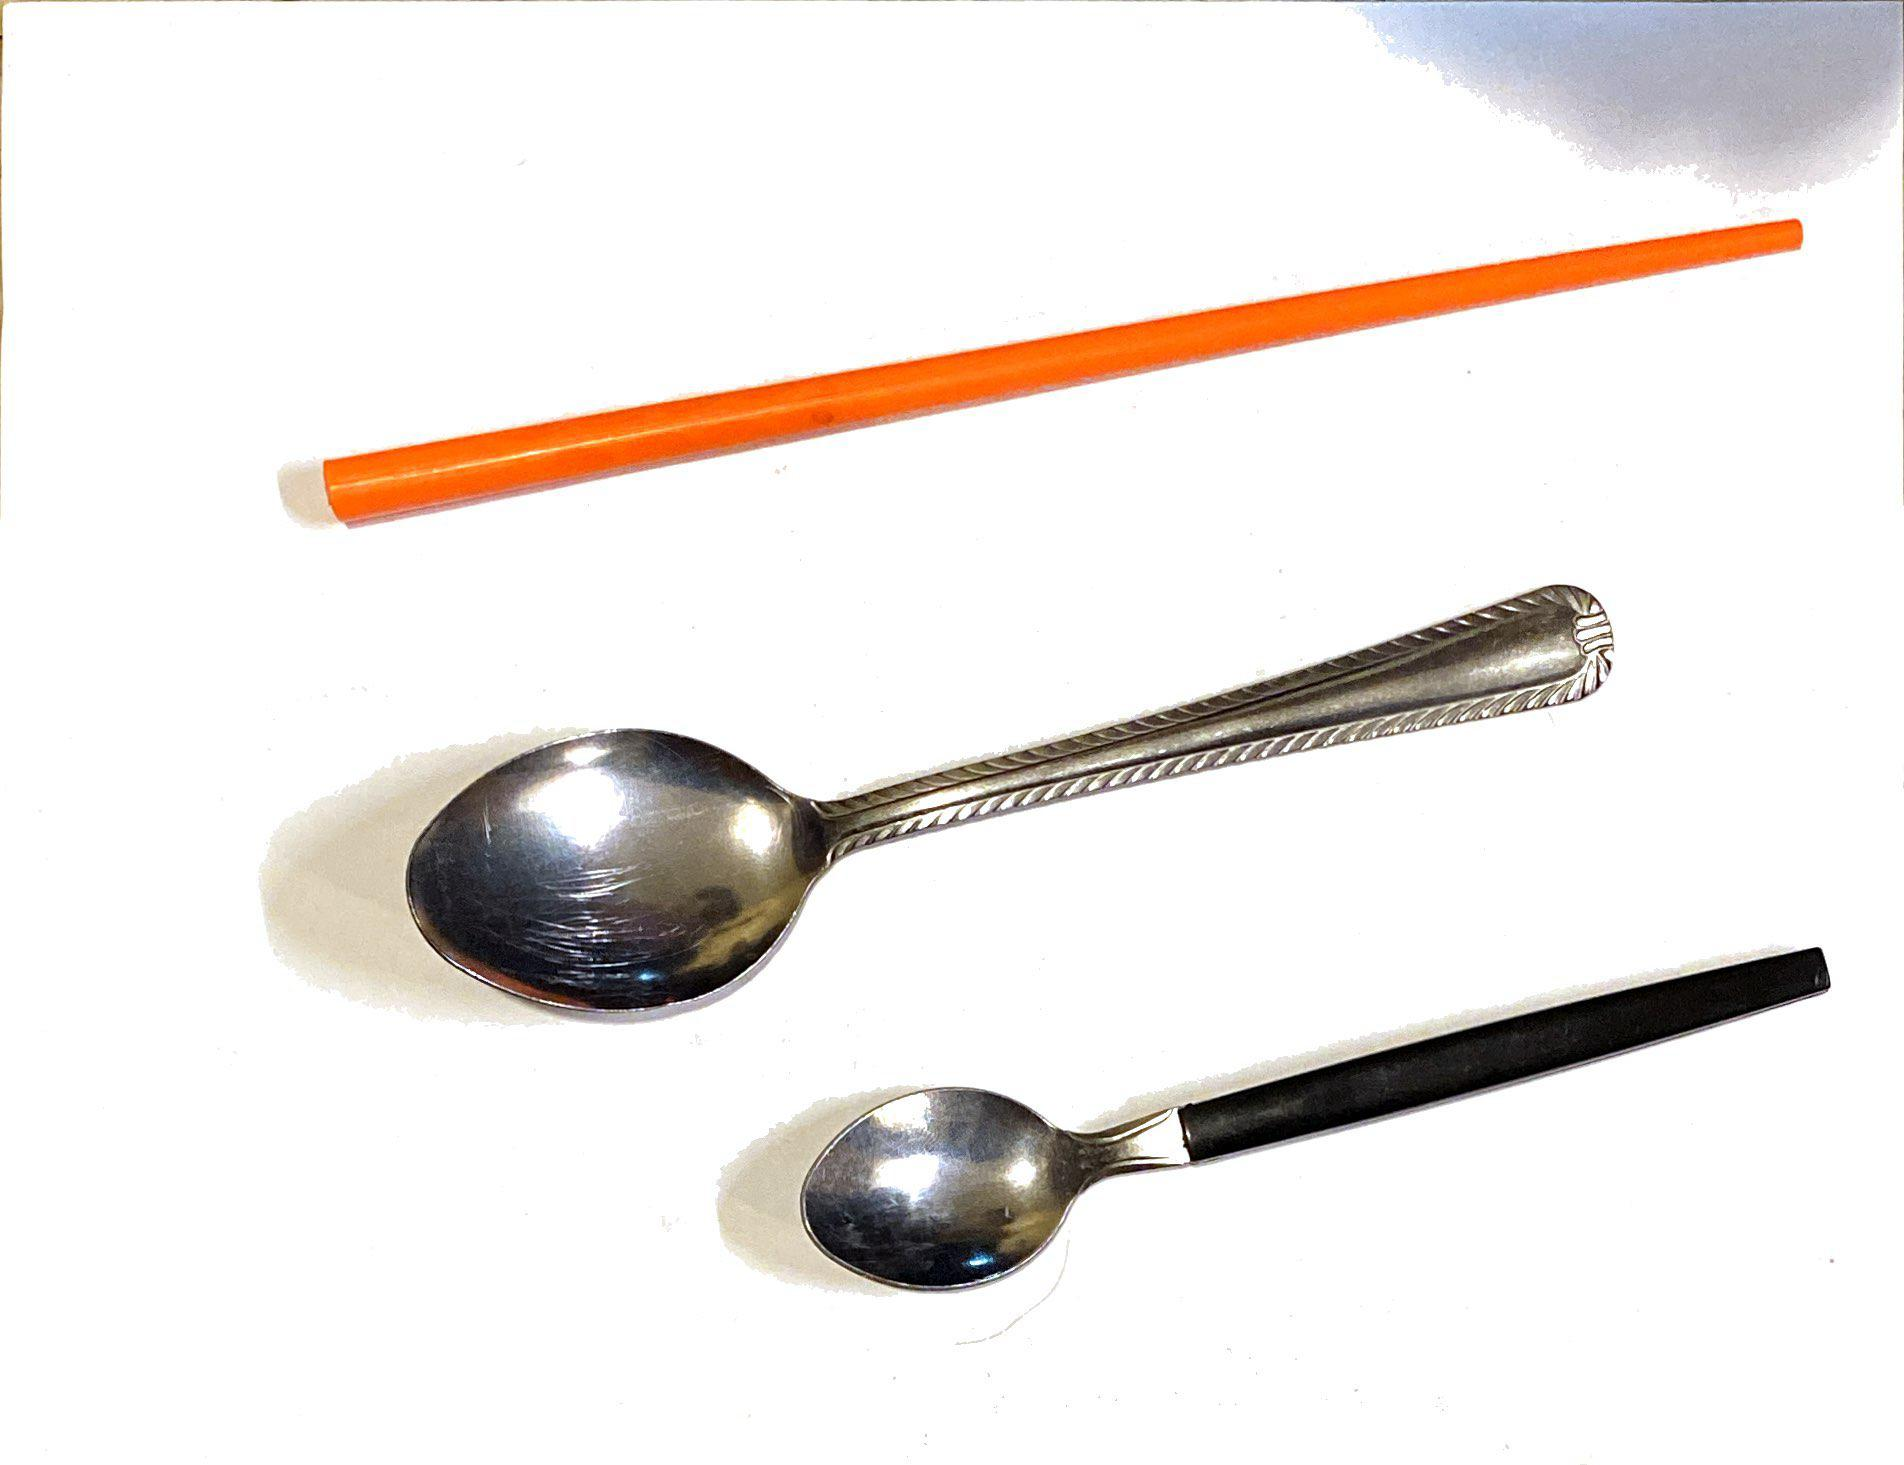Chopstick: (292, 183, 1835, 565)
Spoon: (374, 566, 1648, 1026), (787, 914, 1846, 1327)
